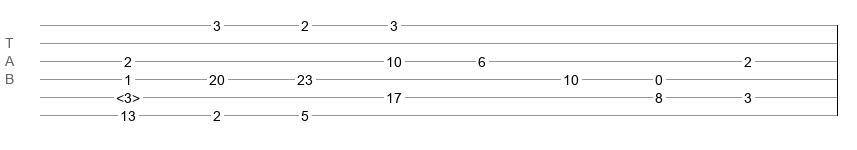0: (655, 72, 663, 82)
1: (124, 72, 132, 82)
10: (386, 54, 402, 64), (563, 72, 579, 82)
13: (120, 108, 136, 118)
17: (386, 90, 402, 100)
2: (124, 54, 132, 64), (213, 108, 221, 118), (301, 18, 309, 28), (744, 54, 752, 64)
20: (209, 72, 225, 82)
23: (297, 72, 313, 82)
3: (213, 18, 221, 28), (390, 18, 398, 28), (744, 90, 752, 100)
5: (301, 108, 309, 118)
6: (478, 54, 486, 64)
8: (655, 90, 663, 100)
harmonic: (116, 90, 140, 100)
